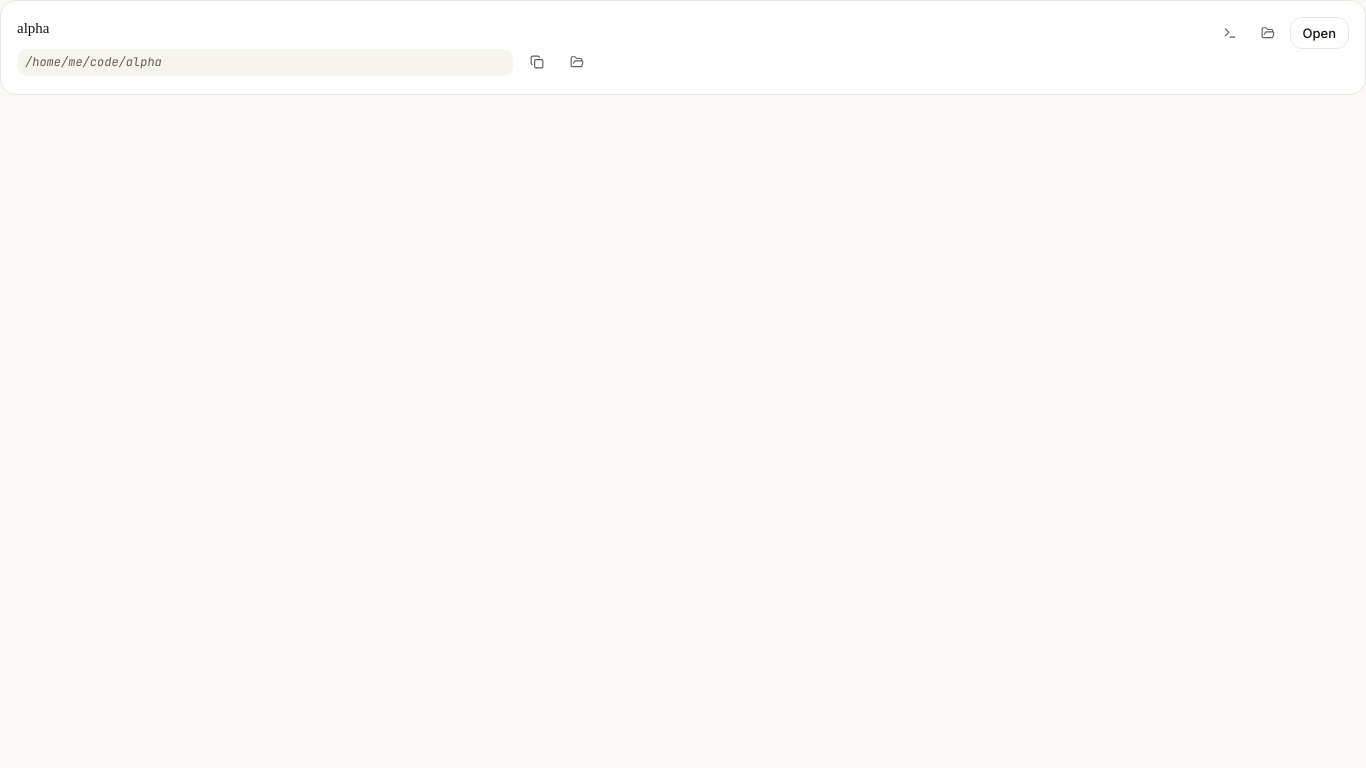
ProjectCard context menu › runs an agent in the project root through the picker
Right-click the text "alpha": (33, 28) [17,20,50,36]
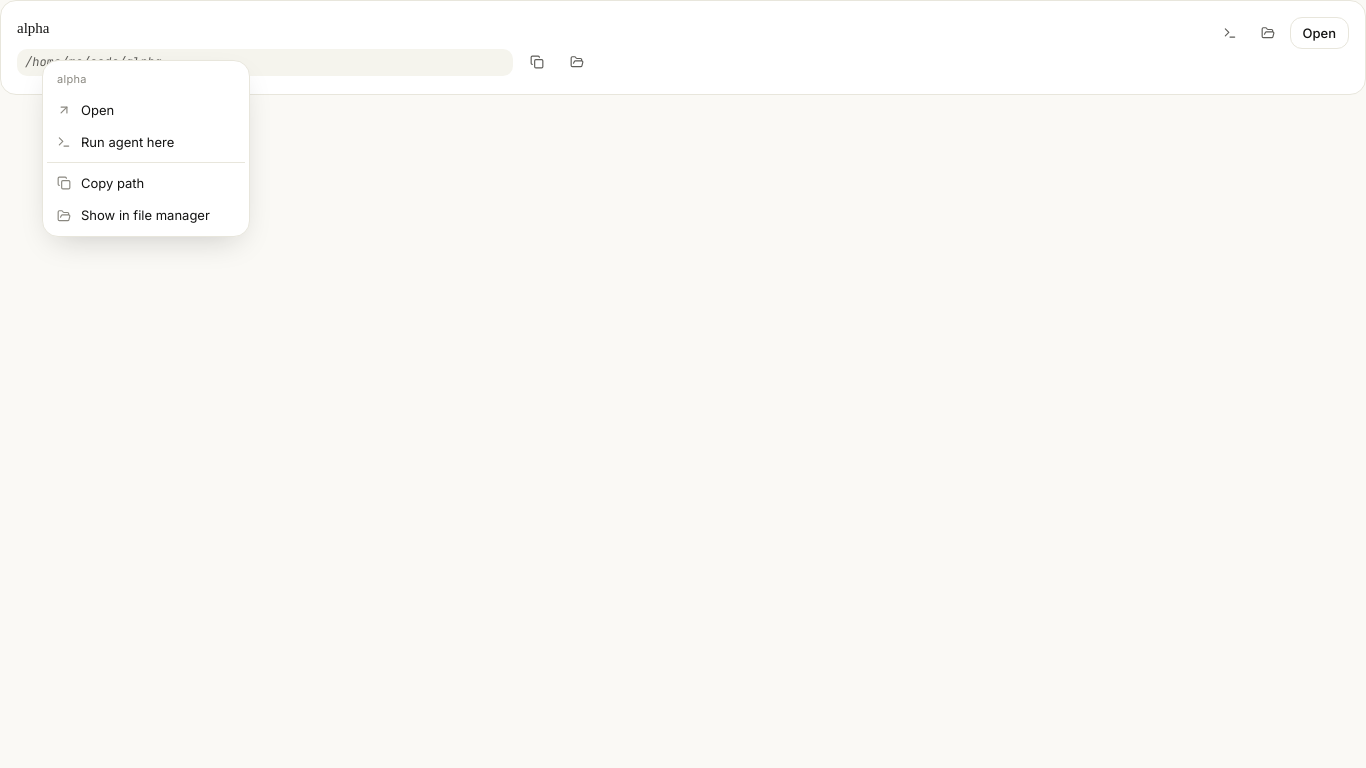
Click the menu item "Run agent here": (116, 142) [57,134,174,150]
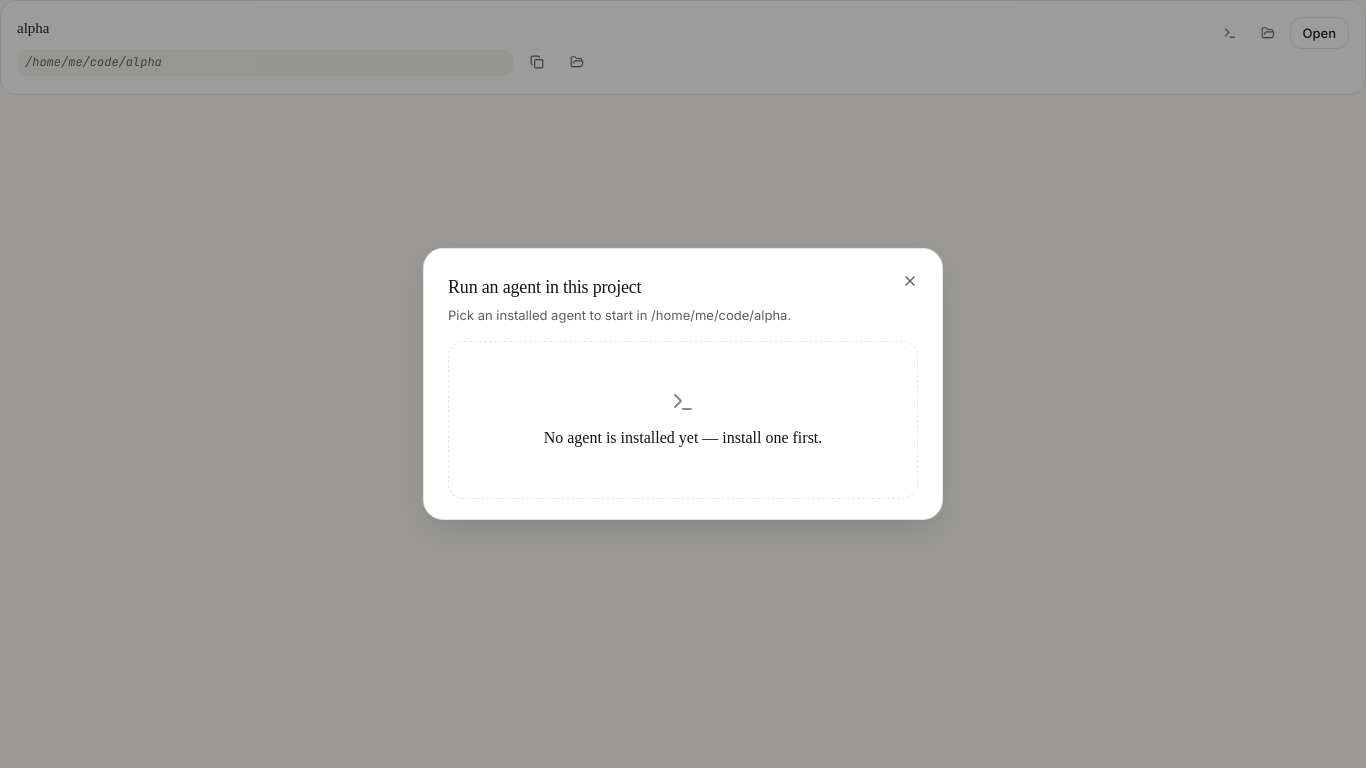
Result: the dialog is shown at [423,248,943,520]
Result: the heading "Run an agent in this project" is shown at [448,277,641,297]
